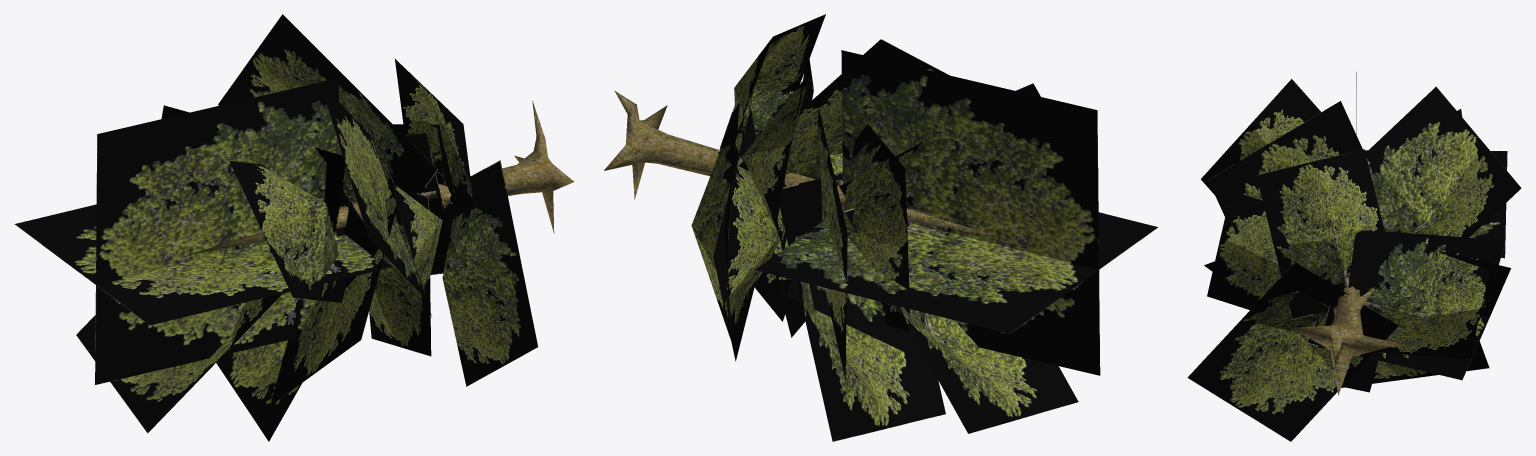
The model's file is tree9.fbx.
The picture shows the model from 3 angles, left to right: view 1: azimuth 30°, elevation 25°; view 2: azimuth 150°, elevation 25°; view 3: azimuth 270°, elevation 25°; orthographic projection. The views are drawn at different scales.
Parts seen in each view (by area): view 1: Tree; view 2: Tree; view 3: Tree.
Part boxes in pixels (box(x1,y1,x2,y2)): Tree: box(14, 14, 574, 441); Tree: box(604, 14, 1158, 441); Tree: box(1187, 72, 1521, 441).
Bounding box in the file's own units: 14.08 × 19.89 × 15.56.
